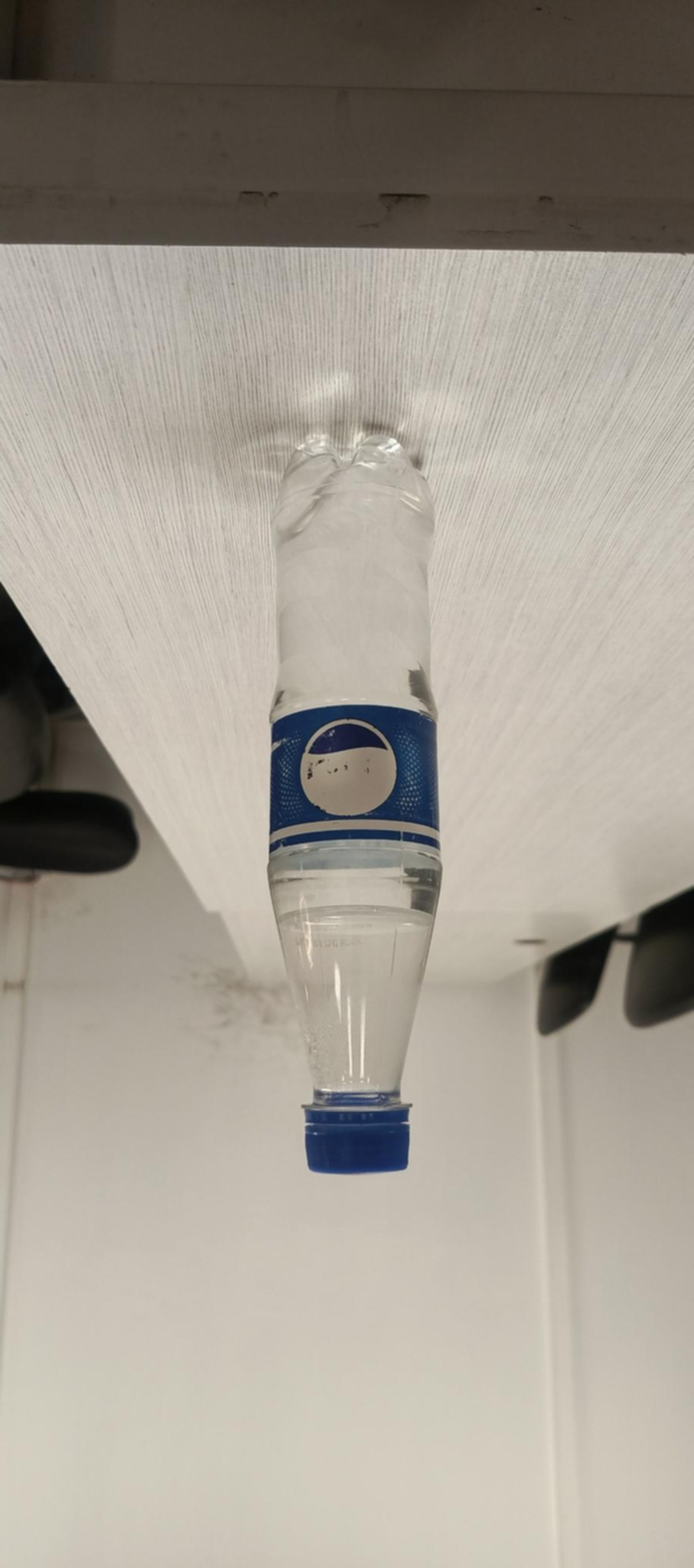Pepsi Bottle: (202, 394, 477, 1186), (215, 397, 472, 1184)
